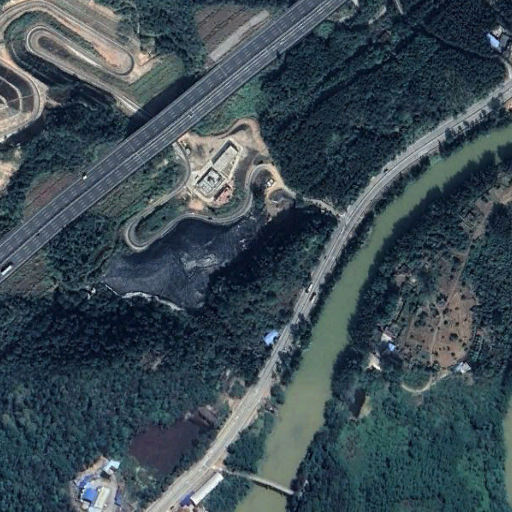lf: (100, 211, 269, 307)
